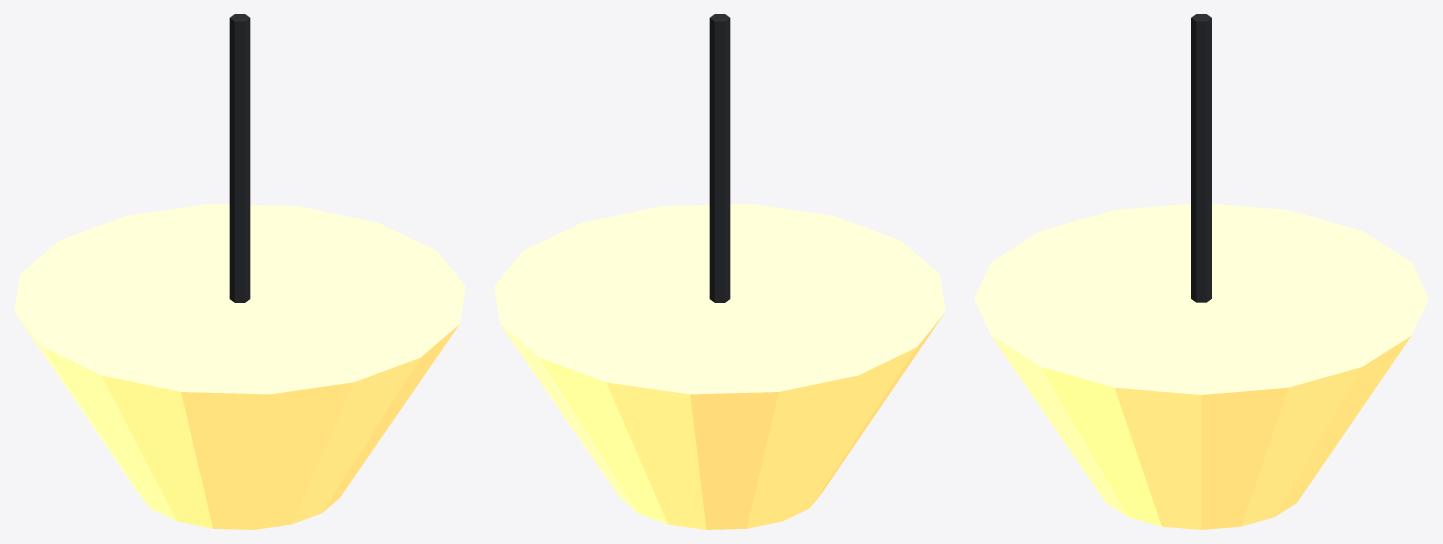
Rendered from PRP_Lamp_Ceiling_A.glb.
3 views of the same model, side by side, from view 1: azimuth 30°, elevation 25°; view 2: azimuth 150°, elevation 25°; view 3: azimuth 270°, elevation 25° (orthographic).
Visible parts, largest first — view 1: shade, PRP_Lamp_Ceiling_A_Cord; view 2: shade, PRP_Lamp_Ceiling_A_Cord; view 3: shade, PRP_Lamp_Ceiling_A_Cord.
Boxes of the visible parts, <box> form: shade: <box>14,203,465,529</box>; PRP_Lamp_Ceiling_A_Cord: <box>229,14,250,302</box>; shade: <box>494,203,945,529</box>; PRP_Lamp_Ceiling_A_Cord: <box>709,14,730,302</box>; shade: <box>974,203,1428,529</box>; PRP_Lamp_Ceiling_A_Cord: <box>1191,14,1211,302</box>.
Bounding box in the file's own units: 0.44 × 0.5 × 0.44.
